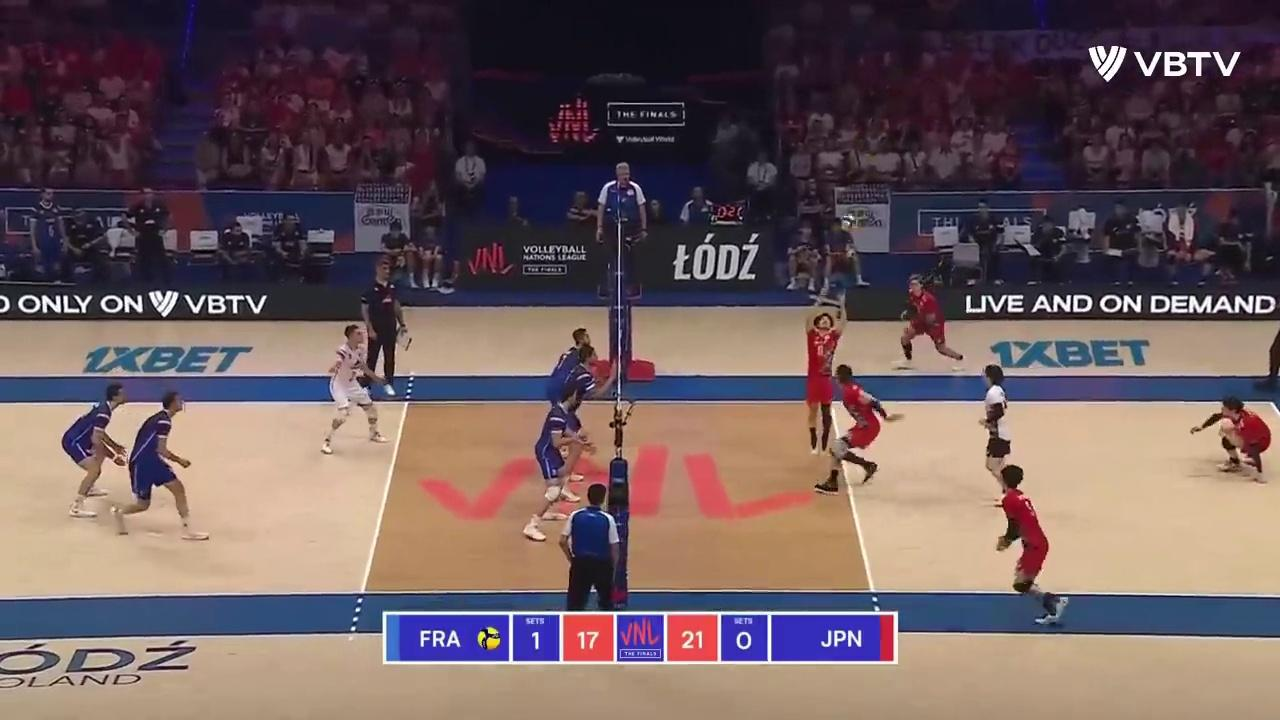ball: (843, 216, 856, 232)
